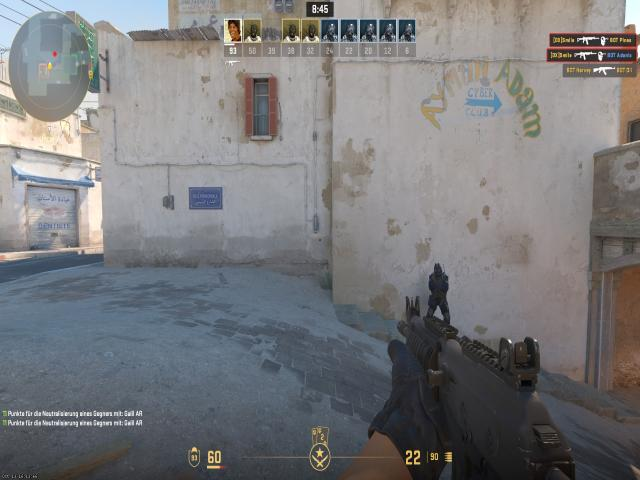CT: (430, 264, 448, 318)
CT-Head: (435, 263, 442, 275)
